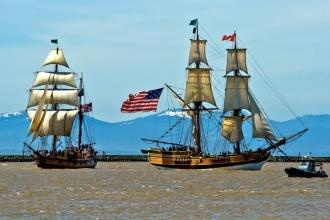fanchuan: (134, 13, 301, 167), (22, 39, 105, 173)
otherboat: (284, 149, 330, 181)
